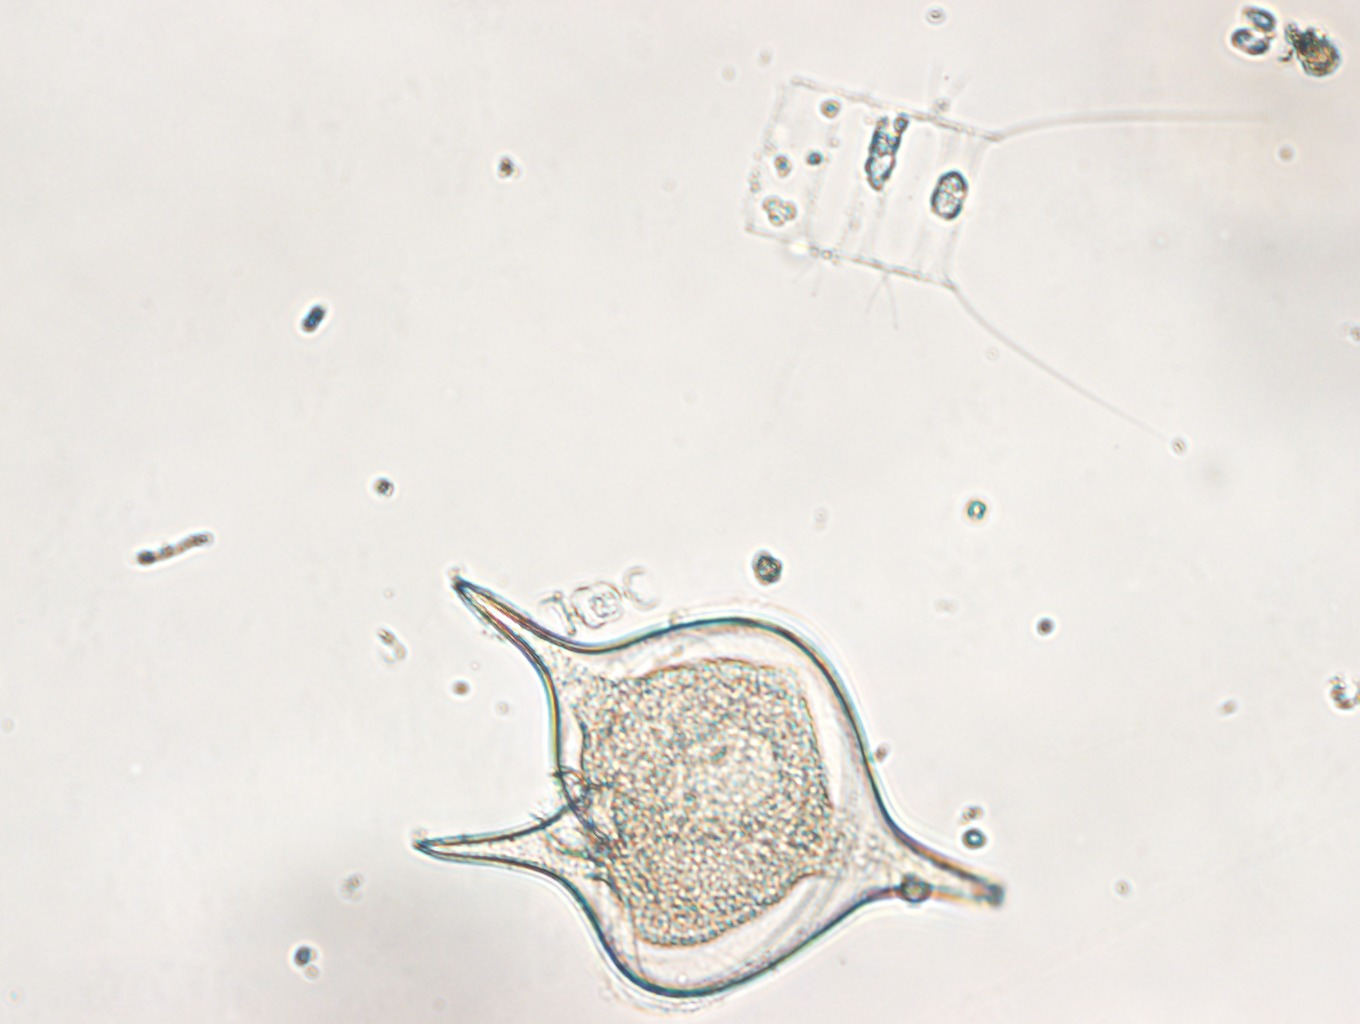protoperidinium: (409, 557, 1016, 1005)
